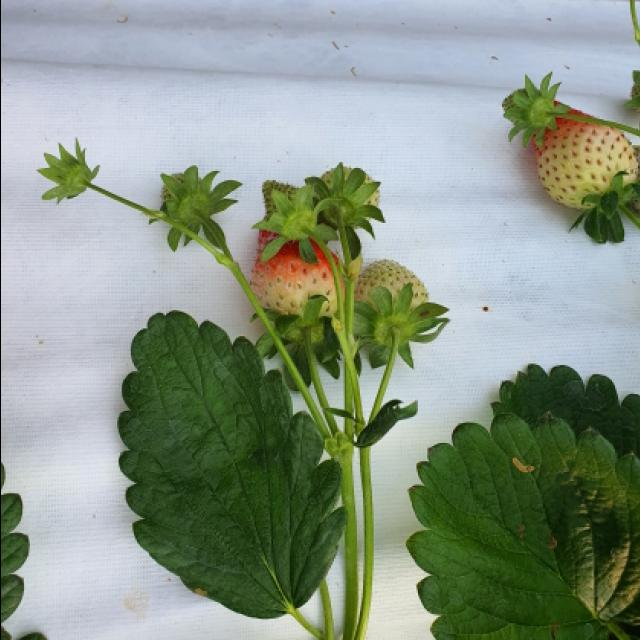Powdery Mildew Fruit: (250, 234, 342, 323)
